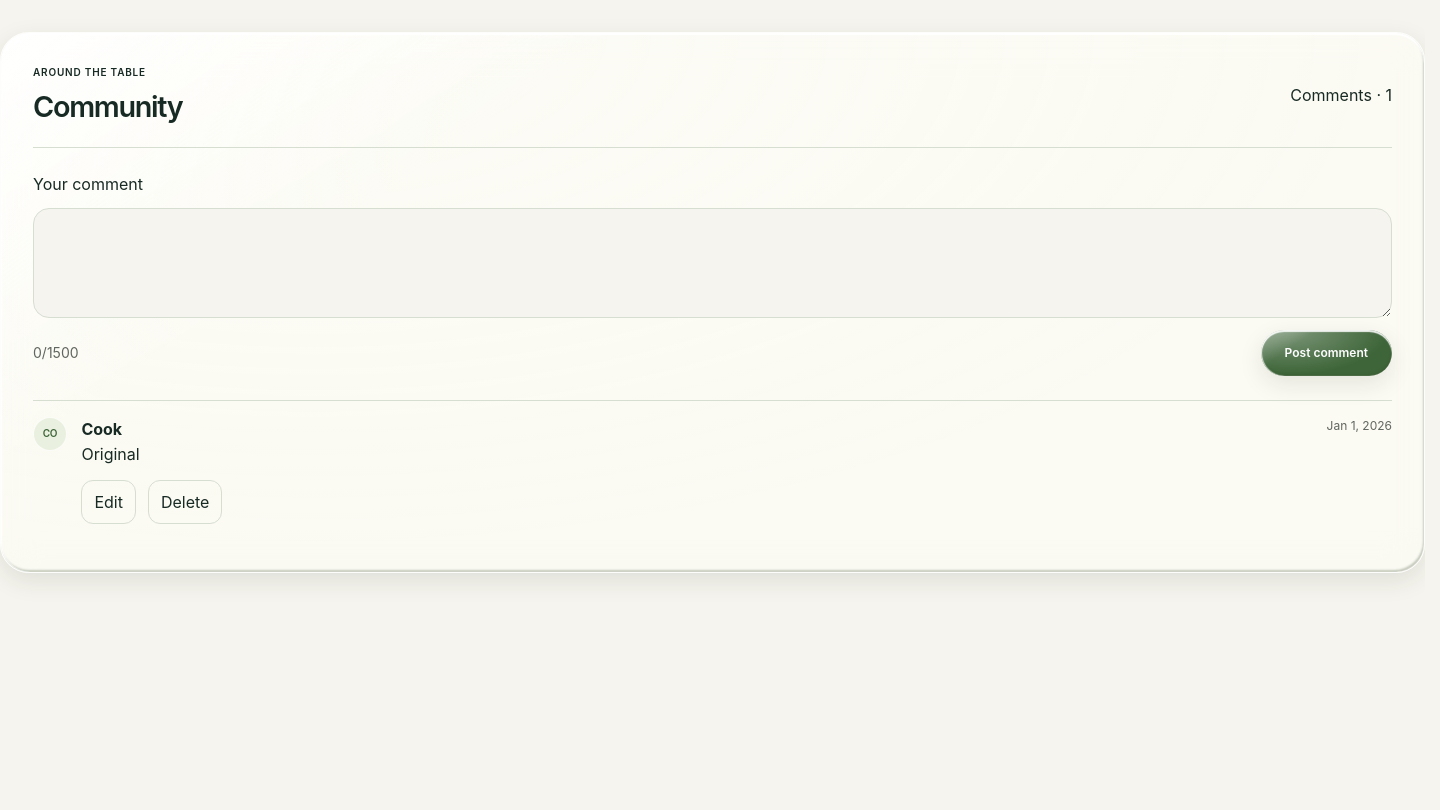
Scenario: retains failed drafts, edits inline, and requires confirmation before deletion
Type "Keep my draft" into the text box labelled "Your comment" at coordinates (712, 262), box x1=33 y1=208 x2=1392 y2=318
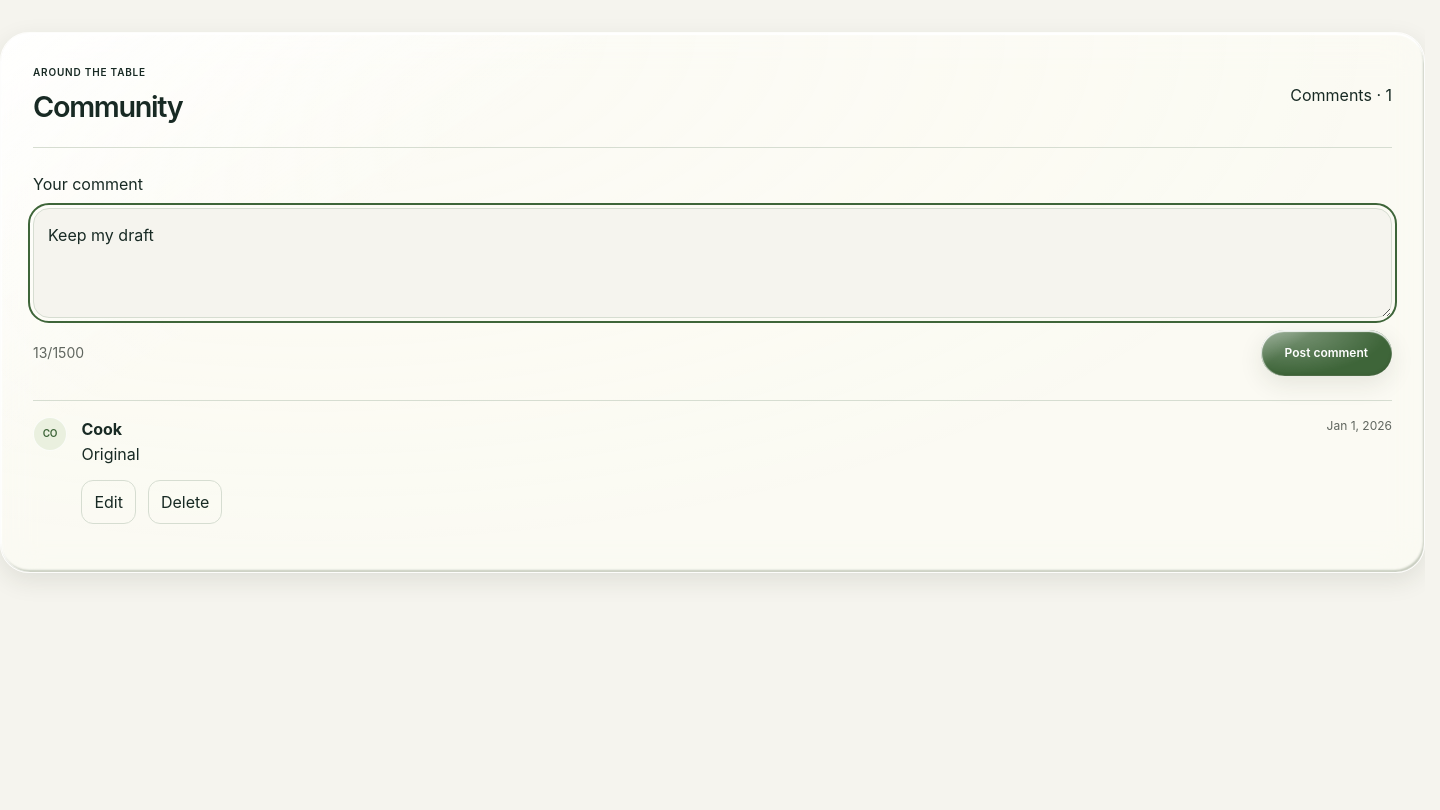
Click the button "Post comment" at coordinates (1326, 352), box x1=1261 y1=330 x2=1392 y2=376
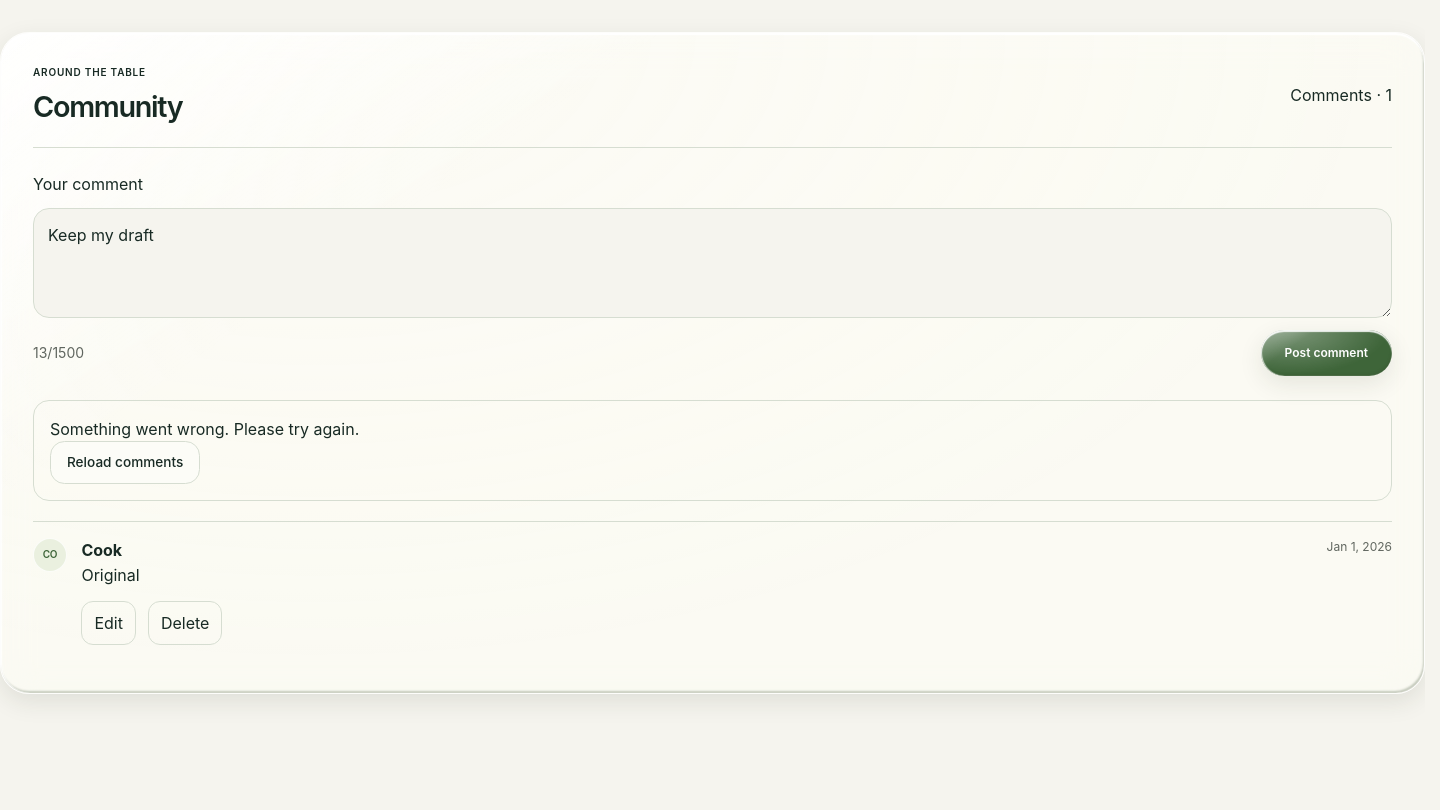
Expected: the message "Something went wrong. Please try again. Reload comments" is shown, x1=33 y1=400 x2=1392 y2=501
Click the button "Edit" at coordinates (109, 623), box x1=81 y1=601 x2=136 y2=645
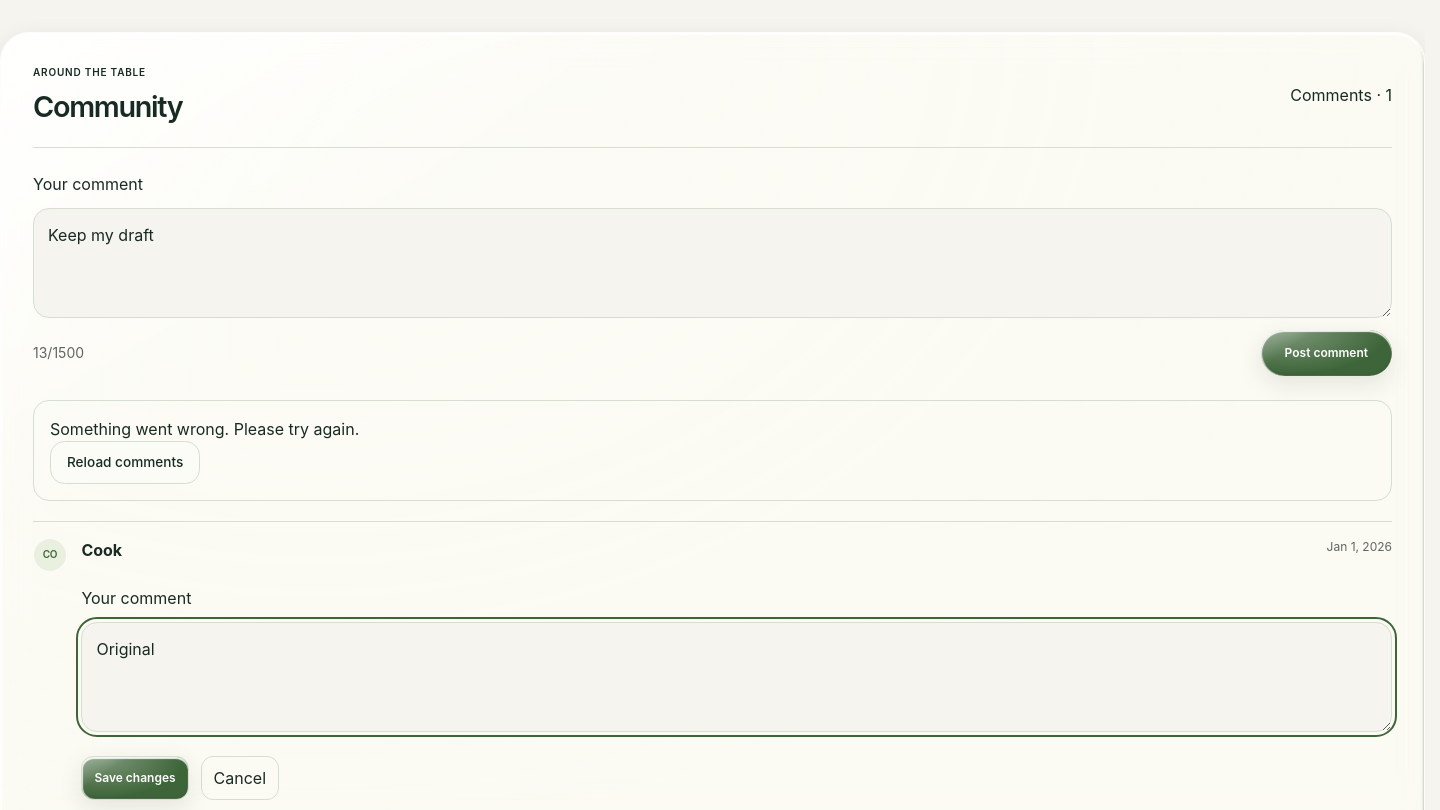
Expected: the text box showing "Original" below "Cook" is shown, x1=81 y1=622 x2=1392 y2=732
Click the button "Cancel" at coordinates (240, 778), box x1=201 y1=756 x2=279 y2=800
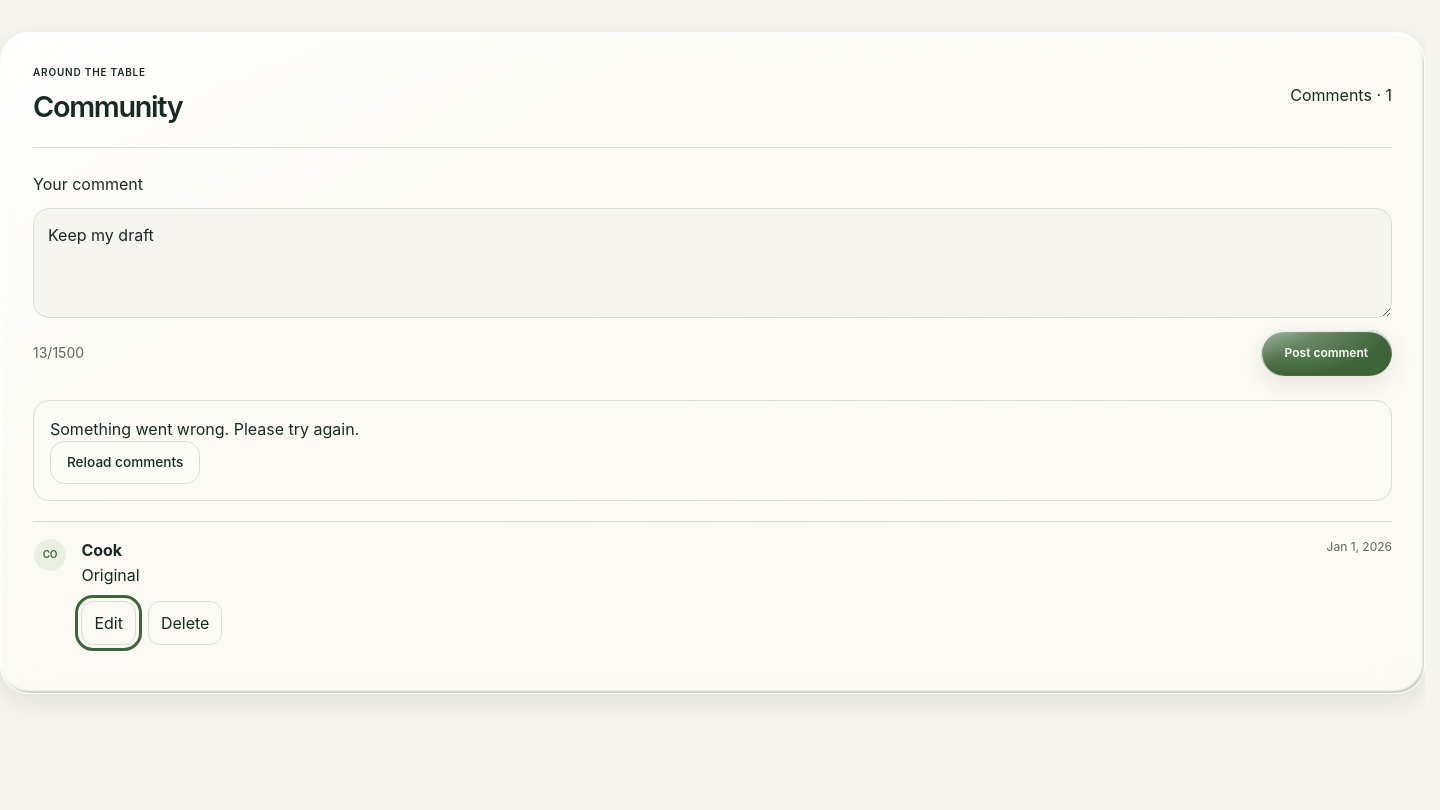
Click the button "Delete" at coordinates (185, 623), box x1=148 y1=601 x2=222 y2=645
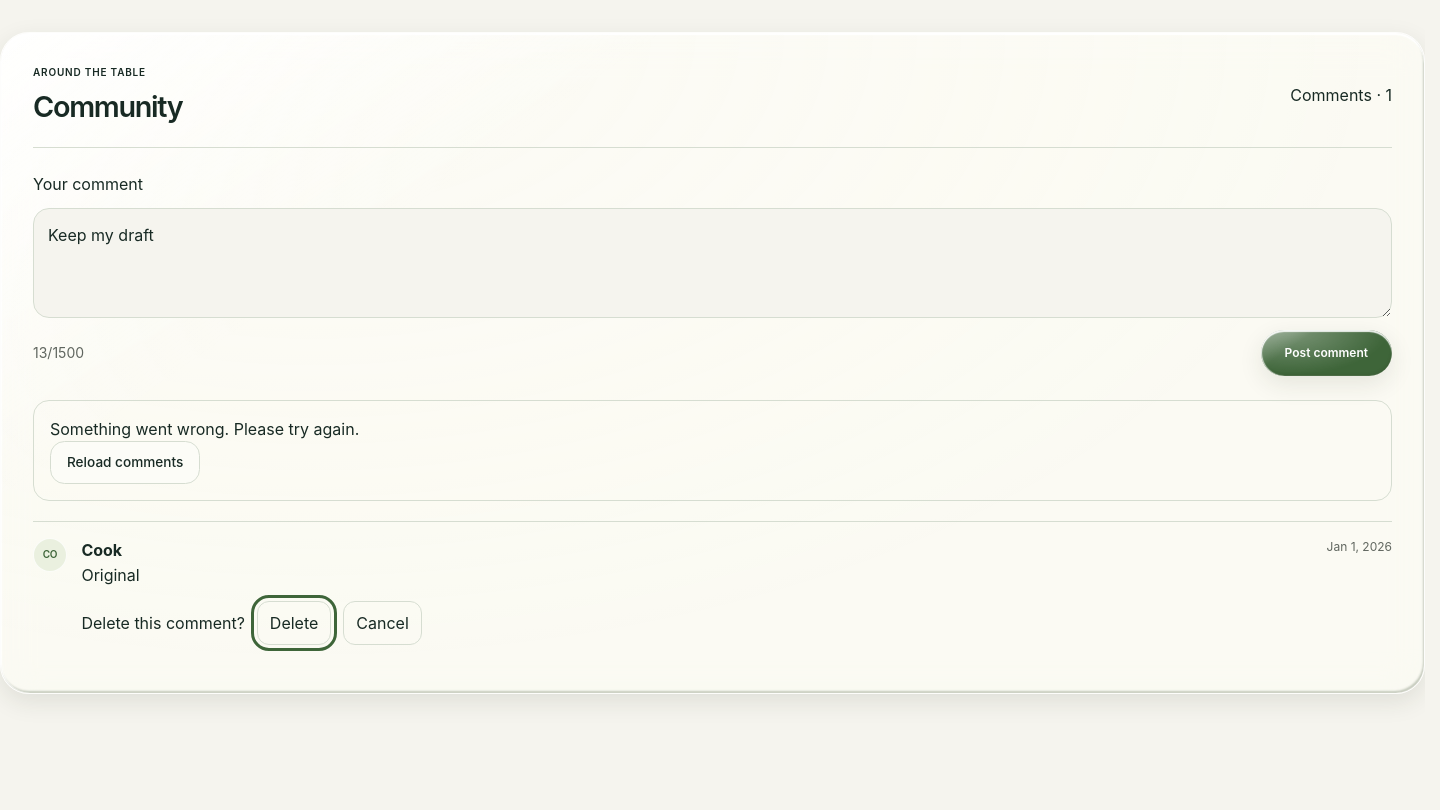
Expected: the text "Delete this comment?" is shown, x1=81 y1=611 x2=245 y2=635
Click the button "Delete" at coordinates (294, 623), box x1=257 y1=601 x2=331 y2=645
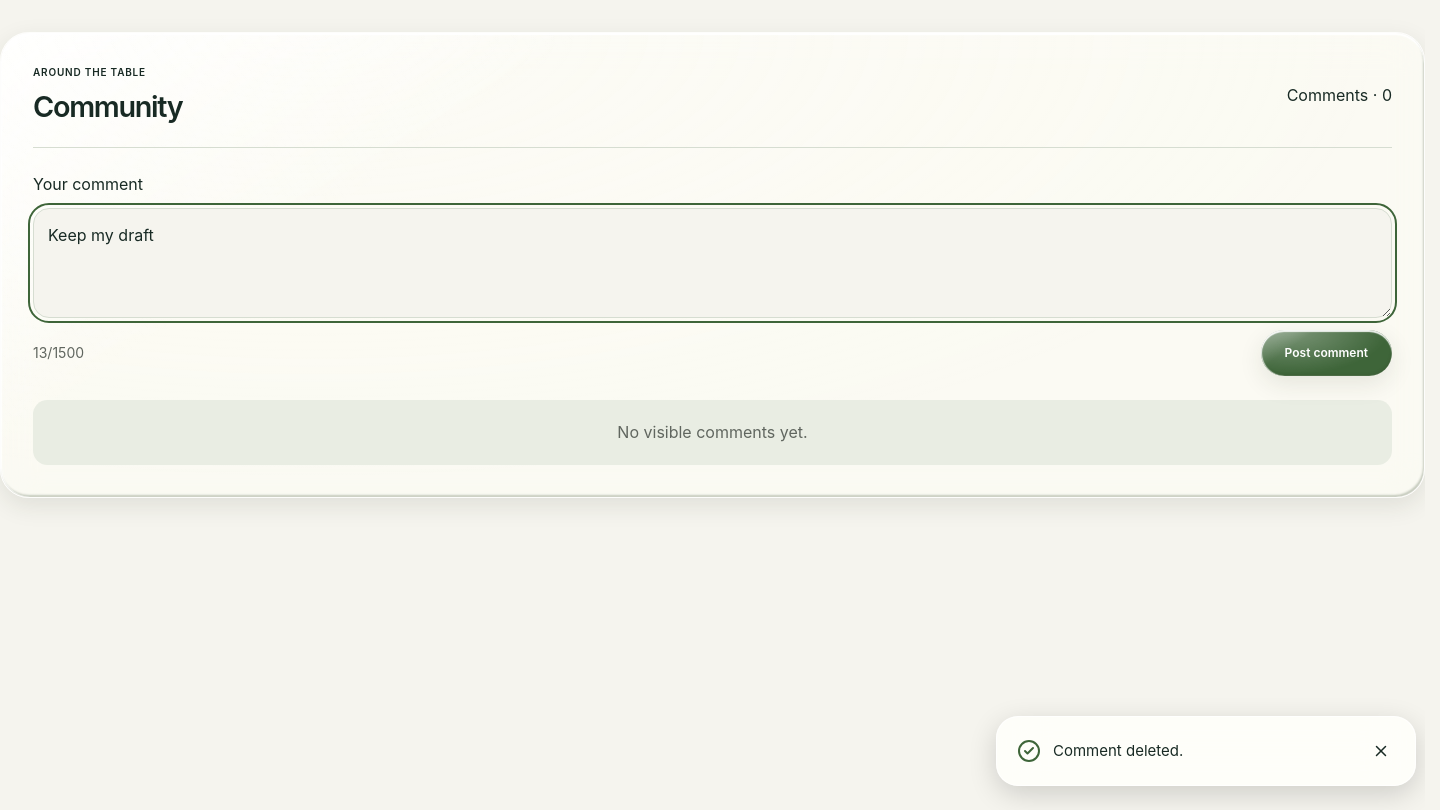
Expected: the text "Original" is gone
